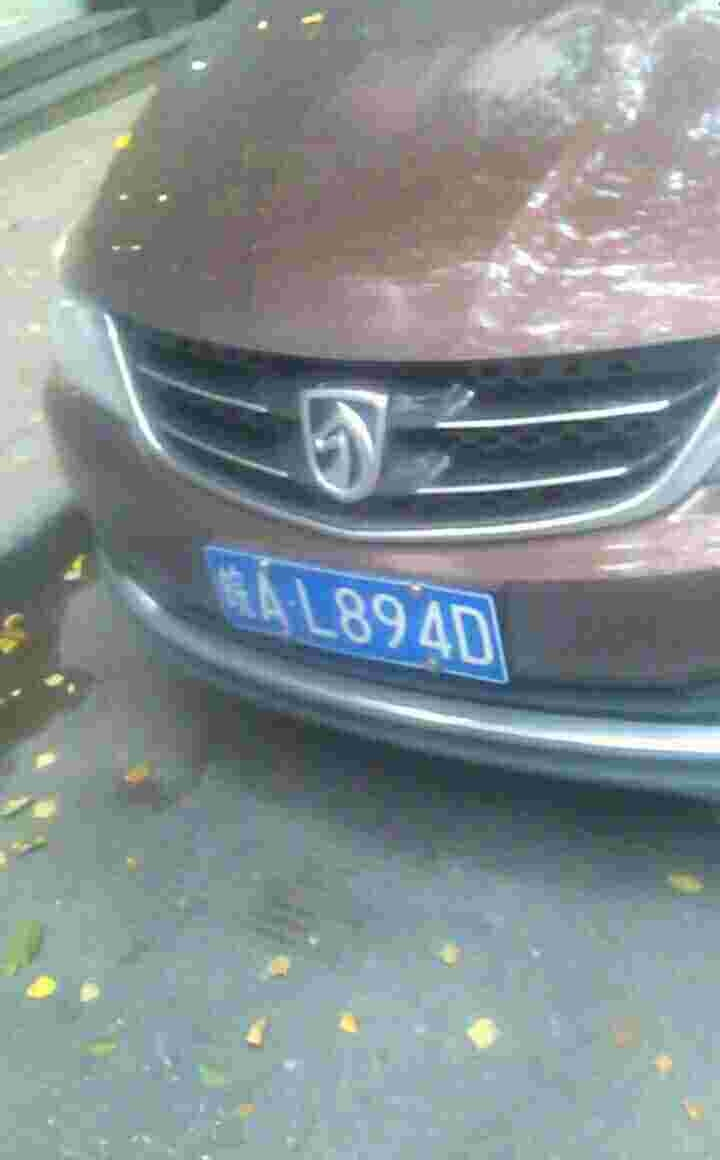license_plate: (202, 551, 512, 678)
